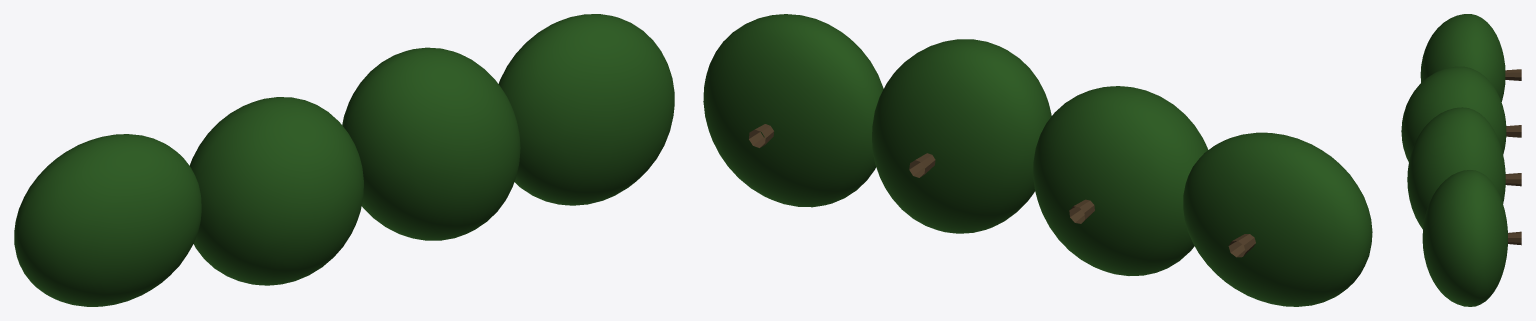
The model's file is citrus_plain4_a.obj.
3 views of the same model, side by side, from view 1: azimuth 30°, elevation 25°; view 2: azimuth 150°, elevation 25°; view 3: azimuth 270°, elevation 25° (orthographic). The views are drawn at different scales.
Parts seen in each view (by area): view 1: canopy; view 2: canopy, trunk; view 3: canopy, trunk.
Part boxes in pixels (bbox=[...]): canopy: bbox=[14, 14, 674, 306]; canopy: bbox=[703, 14, 1372, 306]; trunk: bbox=[749, 124, 1255, 257]; canopy: bbox=[1401, 14, 1507, 306]; trunk: bbox=[1505, 69, 1521, 245].
Size of the model in its own units: 12.31 by 3.48 by 2.88.
